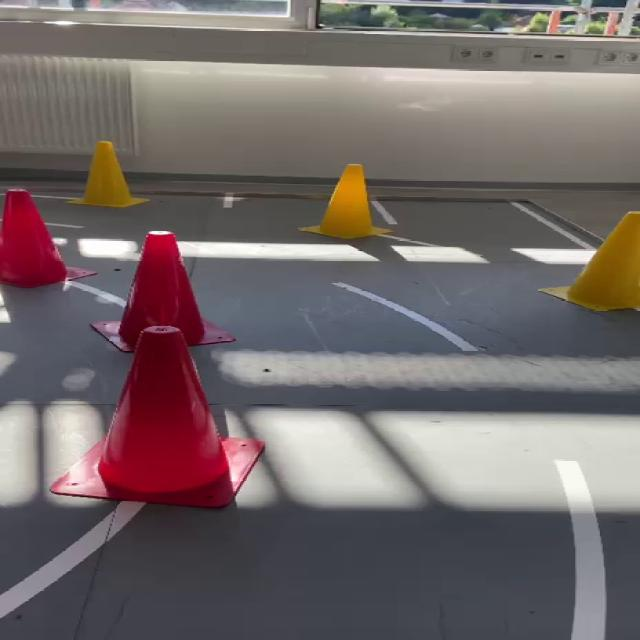Cone-red: (51, 326, 263, 506), (119, 231, 233, 352), (0, 189, 95, 288)
Cones-yellow: (541, 212, 639, 310), (301, 165, 392, 238), (69, 142, 148, 207)
